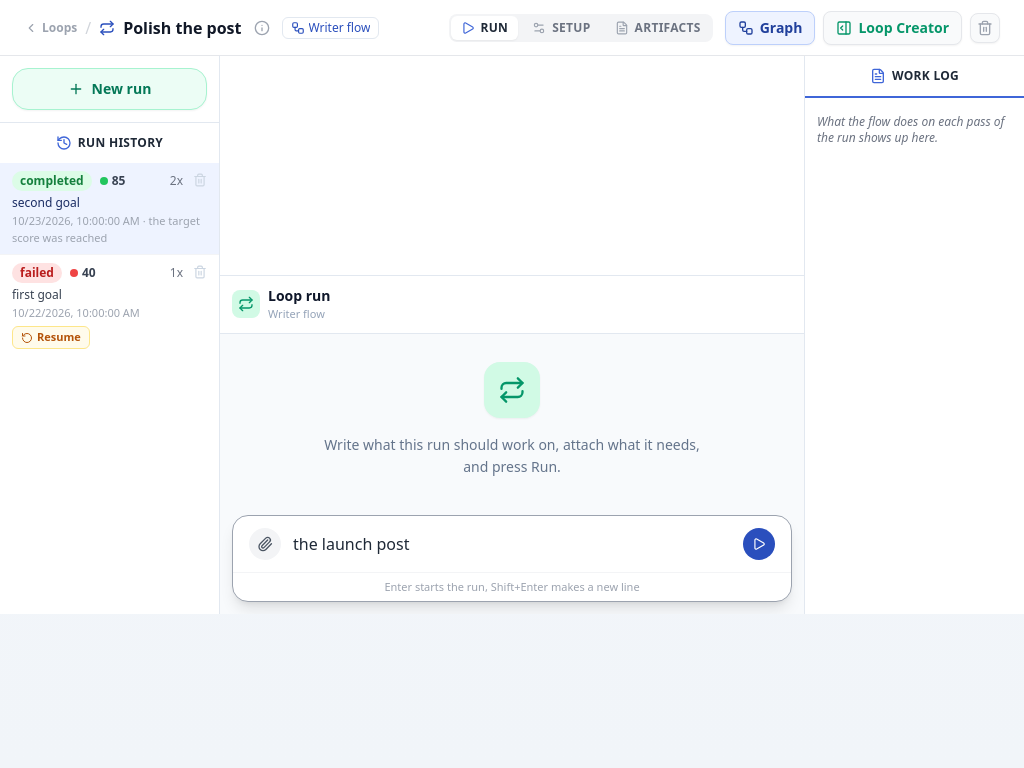
Scenario: LoopDetail: a loop on a page of its own › folds the flow graph away and back from the header
Expected: the element with test id "loop-flow-graph" is shown, x1=220 y1=56 x2=804 y2=276
Click the button with test id "loop-graph-toggle". click: (770, 28)
box: x1=725 y1=10 x2=815 y2=44
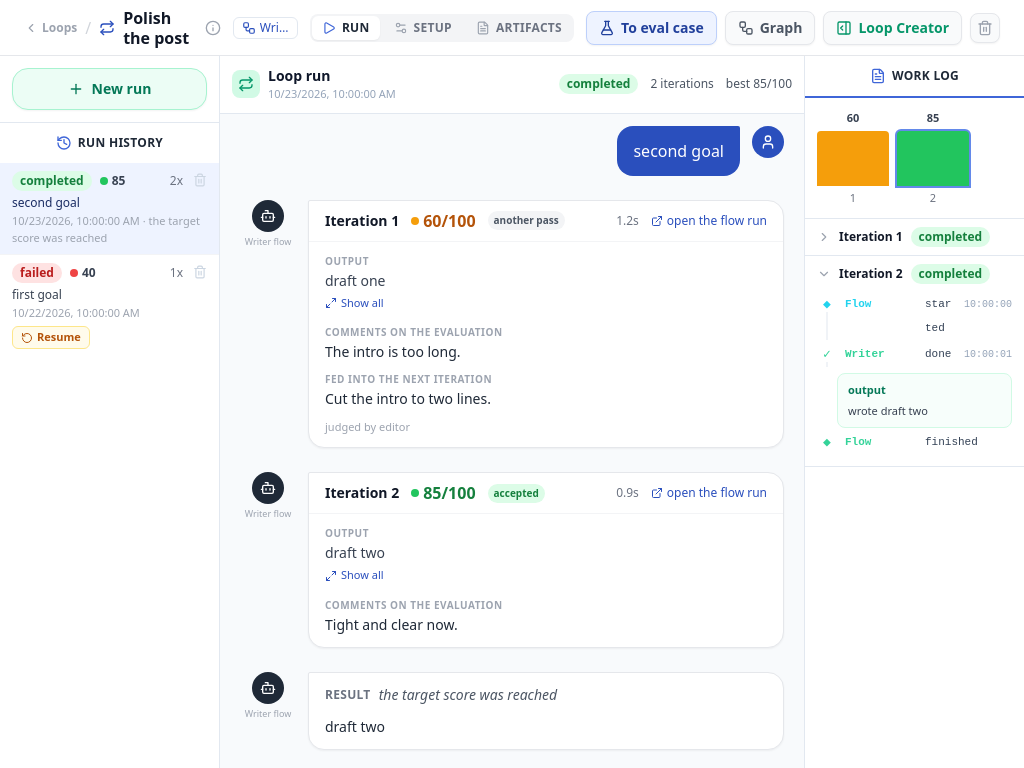
Now the element with test id "loop-flow-graph" is gone
Click the button with test id "loop-graph-toggle". click: (770, 28)
box: x1=725 y1=10 x2=815 y2=44
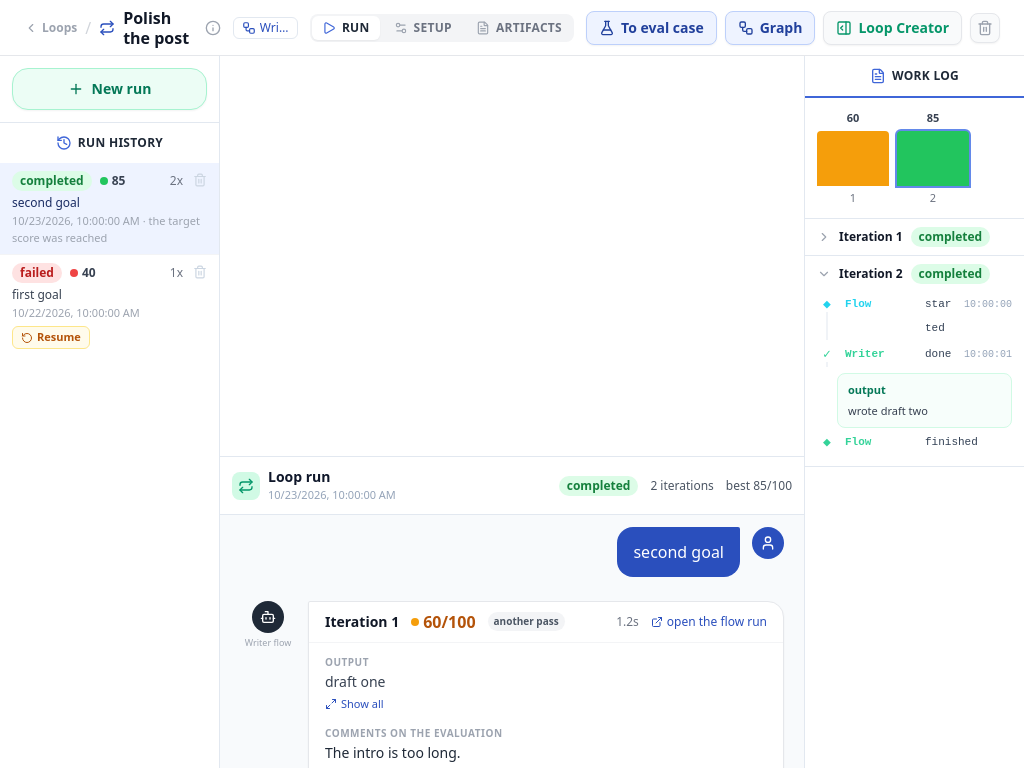
Now the element with test id "loop-flow-graph" is shown, box x1=220 y1=56 x2=804 y2=458
